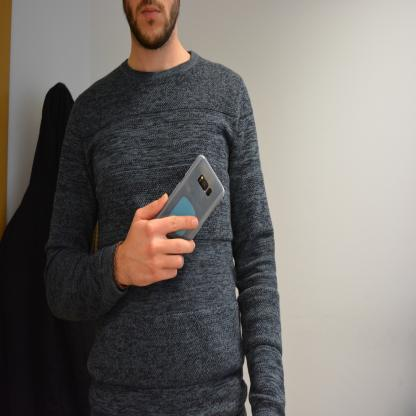smartphone: (150, 154, 225, 256)
